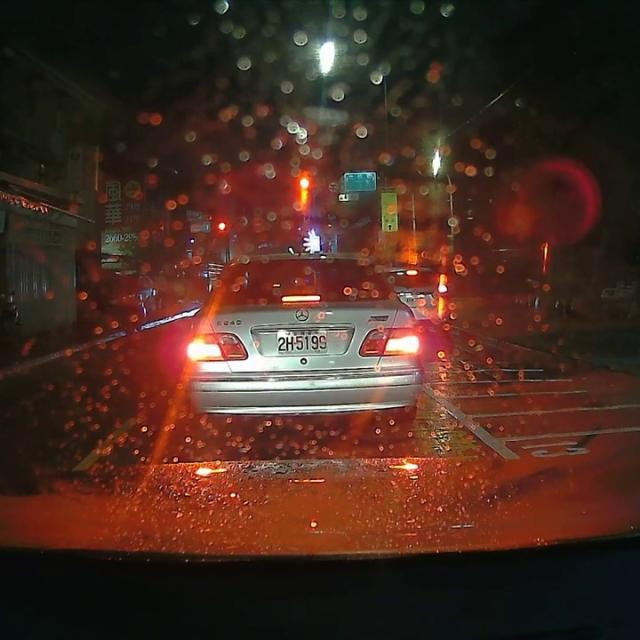Car: (187, 247, 421, 415), (382, 263, 450, 324)
